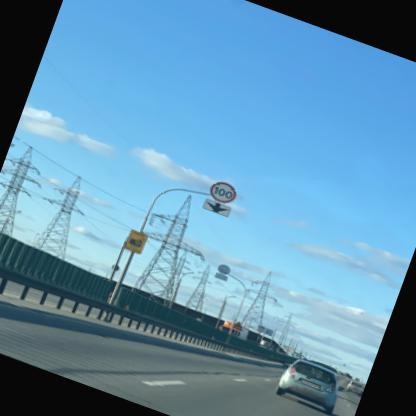speedlimit: (205, 176, 237, 205)
